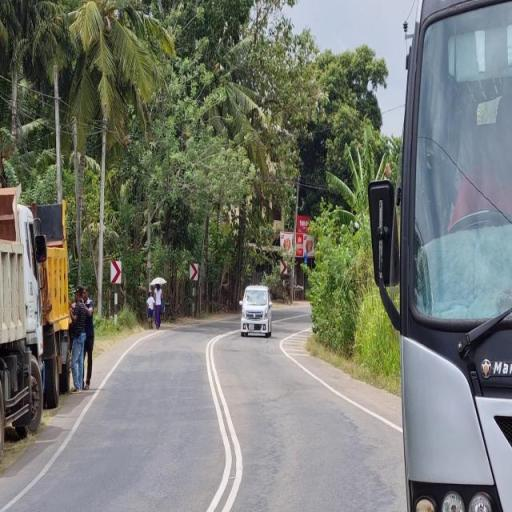double_white_line: (204, 328, 243, 511)
